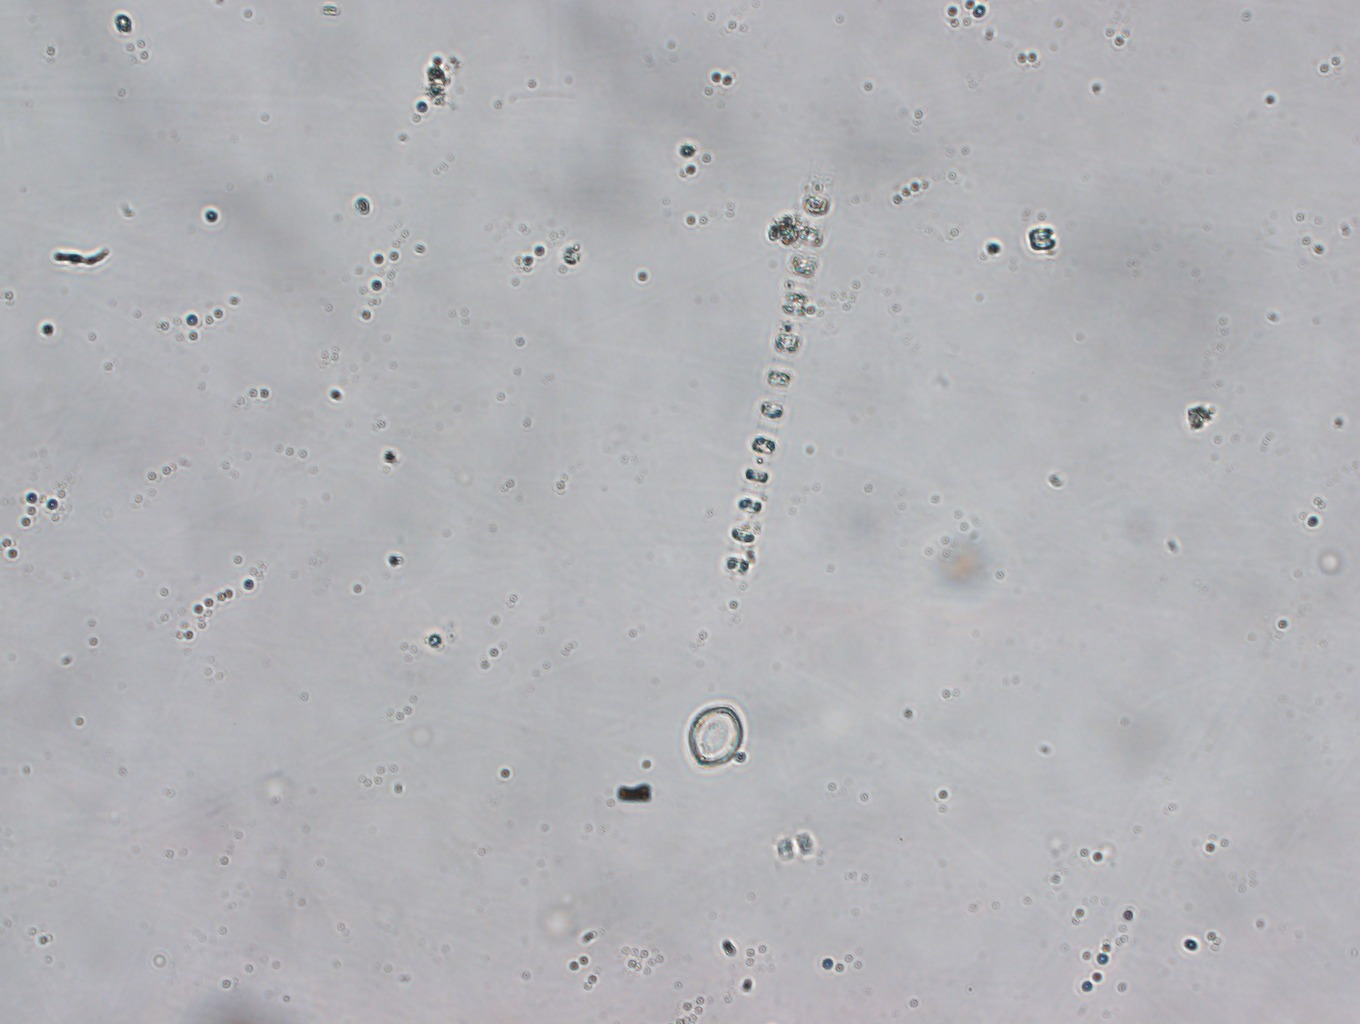skeletonema: (725, 196, 831, 575)
